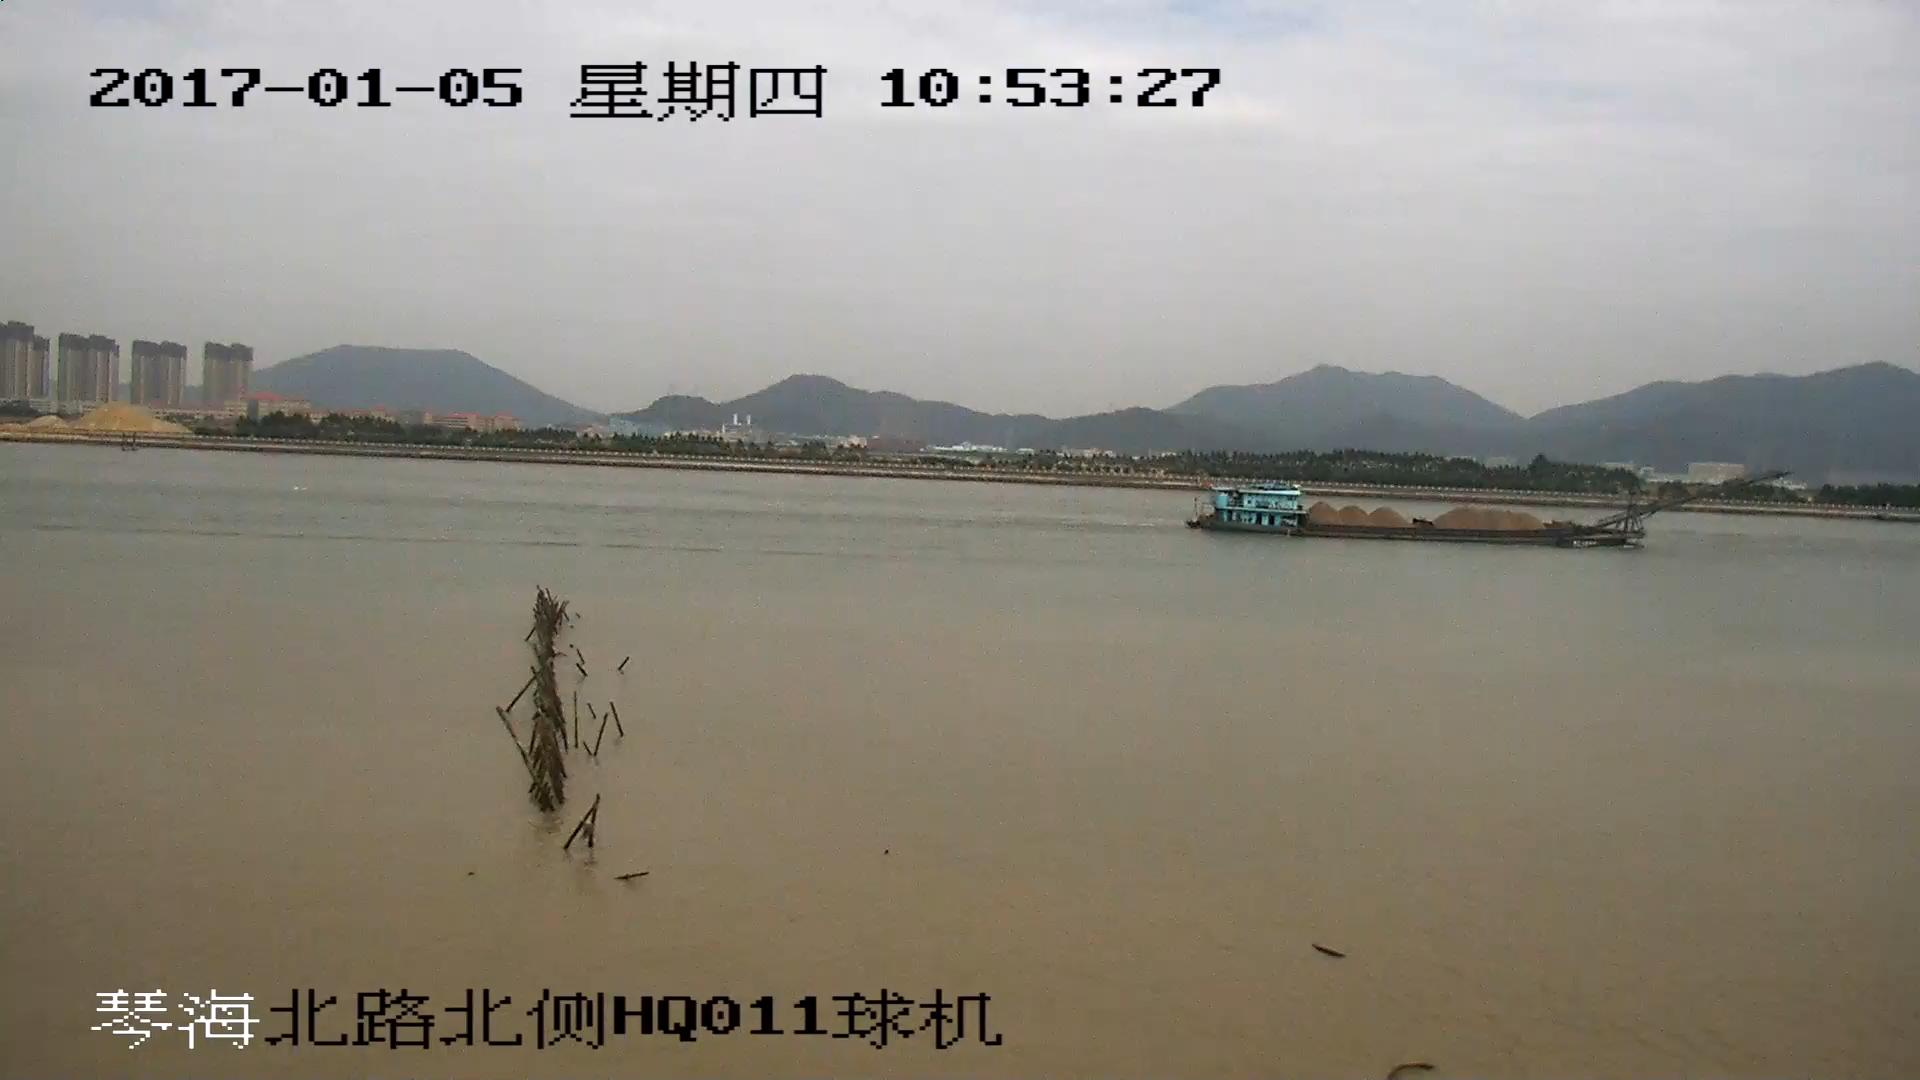ore carrier: (1194, 466, 1782, 548)
